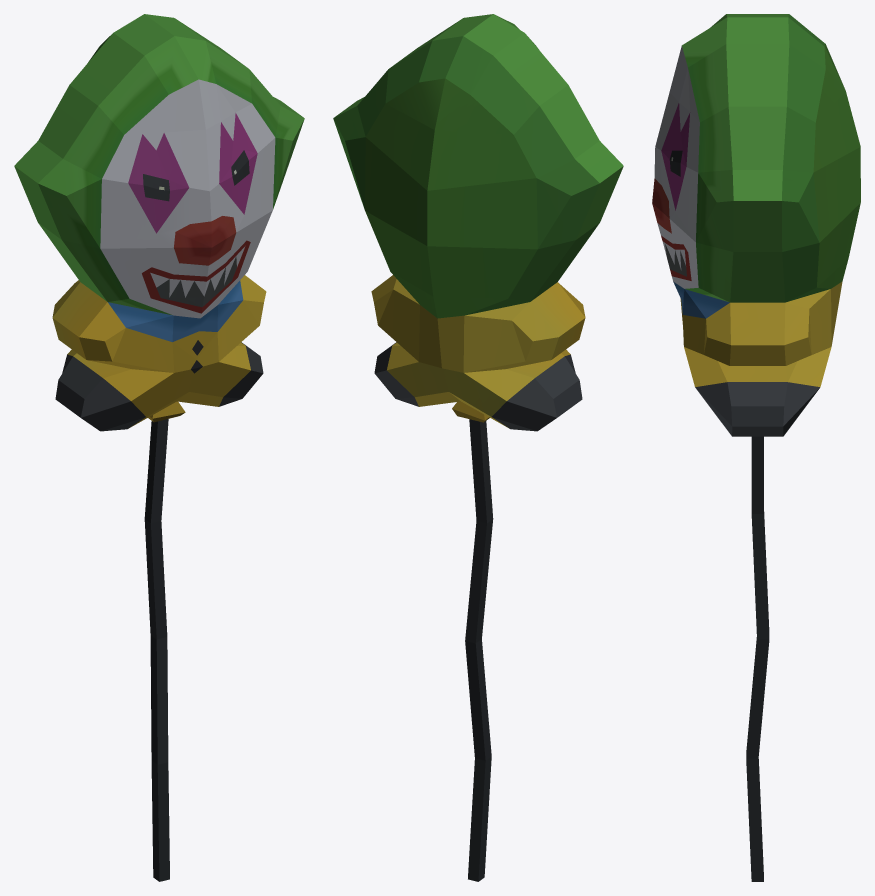
Rendered from SM_Prop_Balloon_01.glb.
The picture shows the model from 3 angles, left to right: view 1: azimuth 30°, elevation 25°; view 2: azimuth 150°, elevation 25°; view 3: azimuth 270°, elevation 25°; orthographic projection.
Parts seen in each view (by area): view 1: SM_Prop_Balloon_01; view 2: SM_Prop_Balloon_01; view 3: SM_Prop_Balloon_01.
Part boxes in pixels (box(x1,y1,x2,y2)): SM_Prop_Balloon_01: box(14, 14, 304, 881); SM_Prop_Balloon_01: box(333, 14, 623, 881); SM_Prop_Balloon_01: box(652, 14, 860, 881).
Size of the model in its own units: 55.74 by 170 by 37.45.
Materials: 1 (1 with a texture image).
